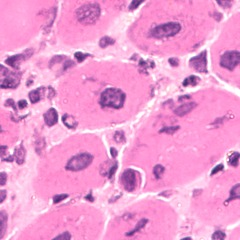New: (54, 62, 150, 126), (127, 1, 220, 57), (31, 129, 111, 194), (55, 1, 130, 49), (191, 167, 240, 227)
